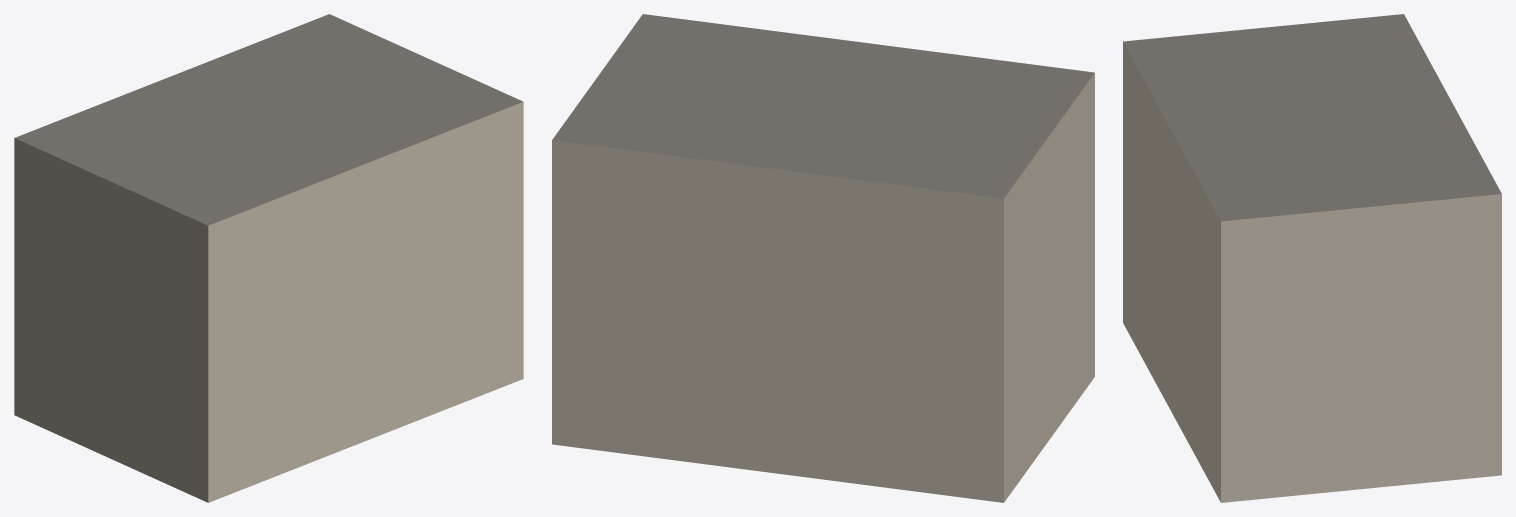
The picture shows the model from 3 angles, left to right: view 1: azimuth 30°, elevation 25°; view 2: azimuth 150°, elevation 25°; view 3: azimuth 270°, elevation 25°; orthographic projection. The views are drawn at different scales.
Visible parts, largest first — view 1: HP-w378107204; view 2: HP-w378107204; view 3: HP-w378107204.
Part boxes in pixels (box(x1,y1,x2,y2)): HP-w378107204: box(14, 14, 523, 502); HP-w378107204: box(552, 14, 1094, 502); HP-w378107204: box(1123, 14, 1501, 502).
Size of the model in its own units: 23.73 by 15 by 18.31.
